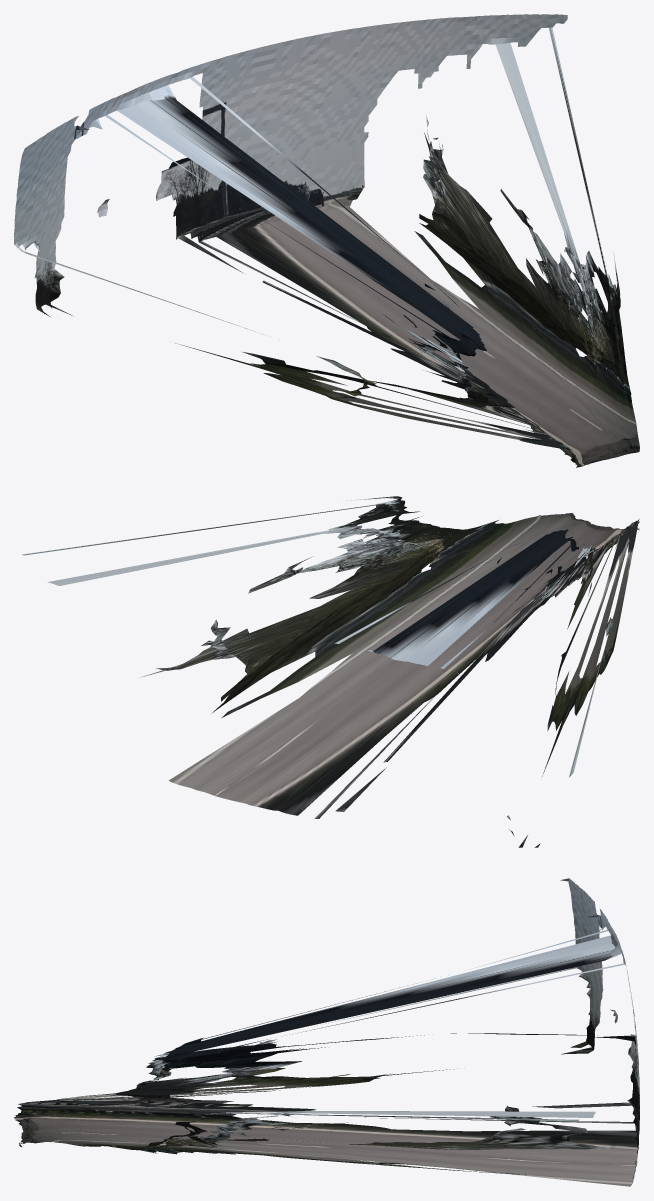
3 views of the same model, one above another, from view 1: azimuth 30°, elevation 25°; view 2: azimuth 150°, elevation 25°; view 3: azimuth 270°, elevation 25° (orthographic). The views are drawn at different scales.
Visible parts, largest first — view 1: defaultobject; view 2: defaultobject; view 3: defaultobject.
Boxes of the visible parts, x1,y1,x2,y2 form: defaultobject: (14, 14, 639, 467); defaultobject: (22, 496, 639, 847); defaultobject: (14, 878, 639, 1186).
Bounding box in the file's own units: 40.42 × 13.3 × 44.73.
Materials: 1 (1 with a texture image).
